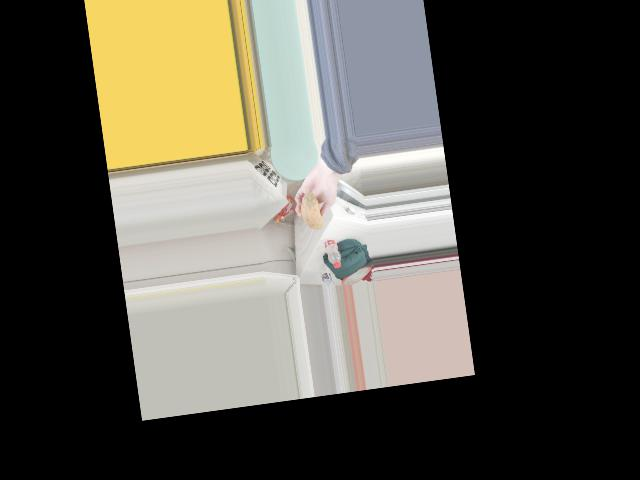sweet_potato: (300, 185, 326, 234)
